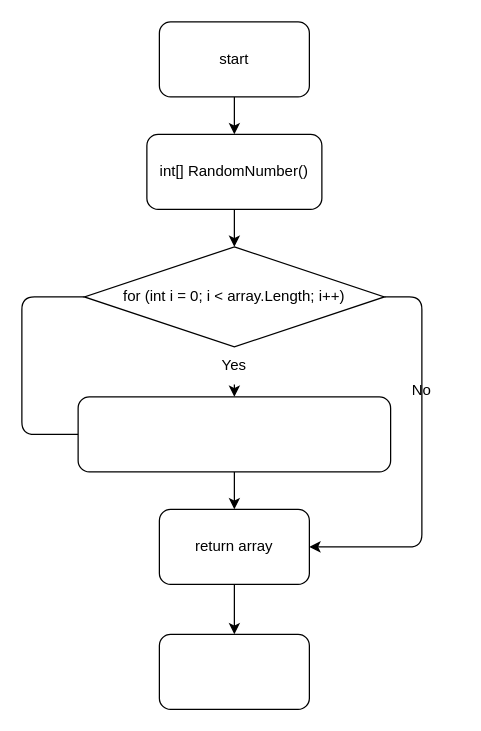
The diagram is 481 pixels wide and 731 high, and some of its shapes have lost their labels. Here are the shapes that lost their labels. From the top down, the centre of each, then its label:
the point at 234,434: array[i] = new Random().Next(-10, 10);
the point at 233,671: exit
